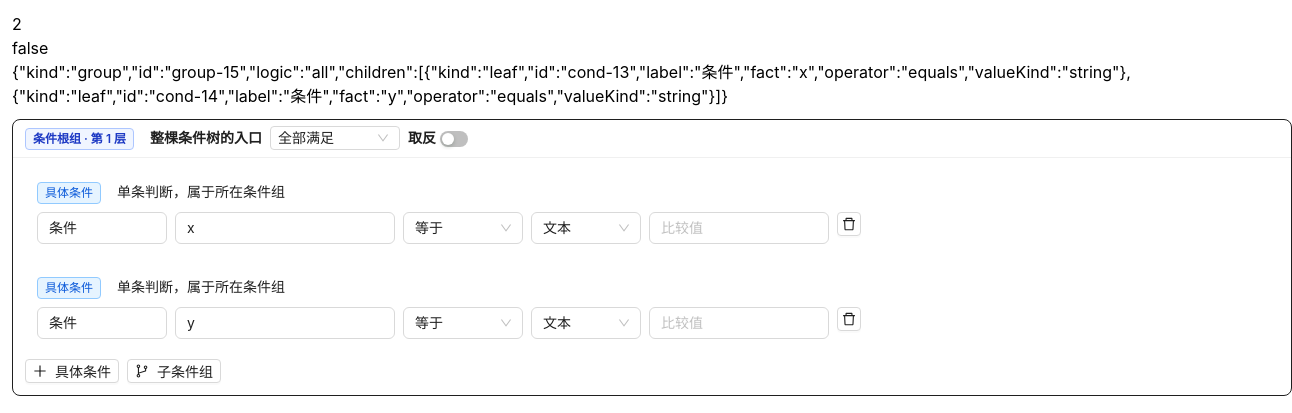
ConditionTreeEditor（P1-2 递归条件树组件） › 删除条件生效
Expected: the text with test id "leaf-count" reads "2", [12,14,22,34]
Click the 1st button named "删除条件" at (849, 224), box [837,212,861,236]
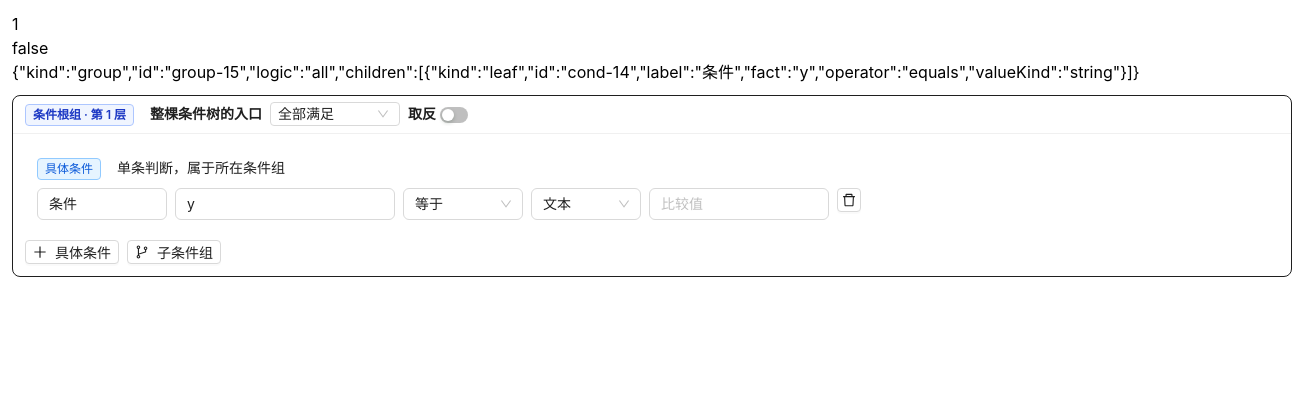
Now the text with test id "leaf-count" reads "1", box [12,14,18,34]
